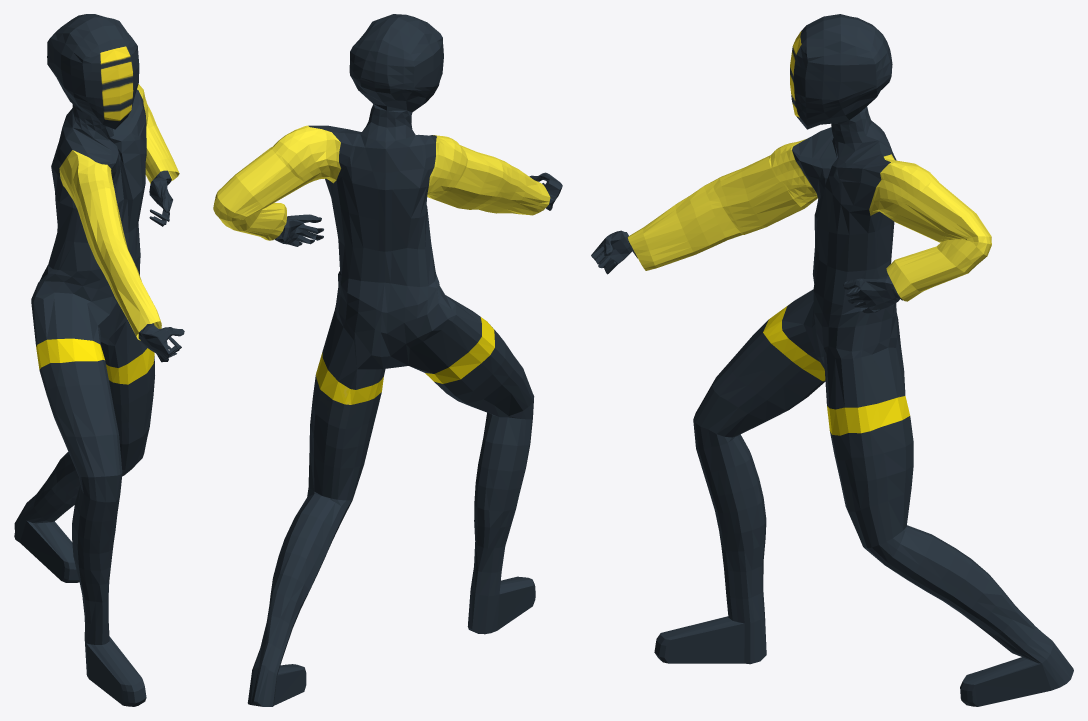
Rendered from Sentry_WB_000026.obj.
The picture shows the model from 3 angles, left to right: view 1: azimuth 30°, elevation 25°; view 2: azimuth 150°, elevation 25°; view 3: azimuth 270°, elevation 25°; orthographic projection. The views are drawn at different scales.
Visible parts, largest first — view 1: Cube; view 2: Cube; view 3: Cube.
Part boxes in pixels (x1=…): Cube: x1=14, y1=14, x2=184, y2=706; Cube: x1=213, y1=14, x2=562, y2=706; Cube: x1=591, y1=14, x2=1073, y2=706.
Bounding box in the file's own units: 1.17 × 3.63 × 2.39.
